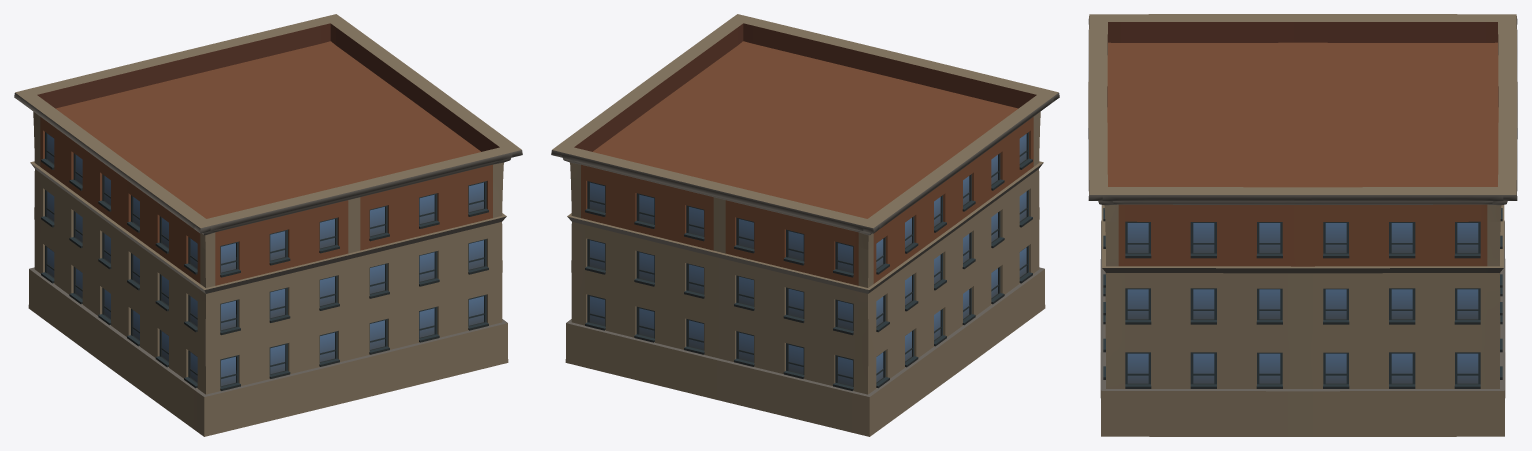
The model's file is buildings-residential-loft_v6.glb.
3 views of the same model, side by side, from view 1: azimuth 30°, elevation 25°; view 2: azimuth 150°, elevation 25°; view 3: azimuth 270°, elevation 25° (orthographic). The views are drawn at different scales.
Parts seen in each view (by area): view 1: Loft_v6_base, Loft_v6_windowRefl; view 2: Loft_v6_base, Loft_v6_windowRefl; view 3: Loft_v6_base, Loft_v6_windowRefl.
Boxes of the visible parts, bbox=[...] form: Loft_v6_base: bbox=[14, 14, 522, 436]; Loft_v6_windowRefl: bbox=[47, 134, 483, 386]; Loft_v6_base: bbox=[551, 14, 1059, 436]; Loft_v6_windowRefl: bbox=[590, 134, 1026, 386]; Loft_v6_base: bbox=[1088, 14, 1517, 436]; Loft_v6_windowRefl: bbox=[1127, 223, 1478, 383].
Size of the model in its own units: 24.1 by 15.29 by 24.1.
